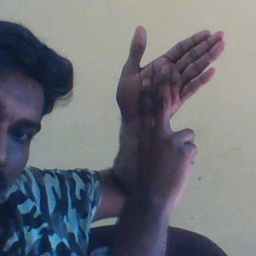N: (110, 22, 230, 168)
